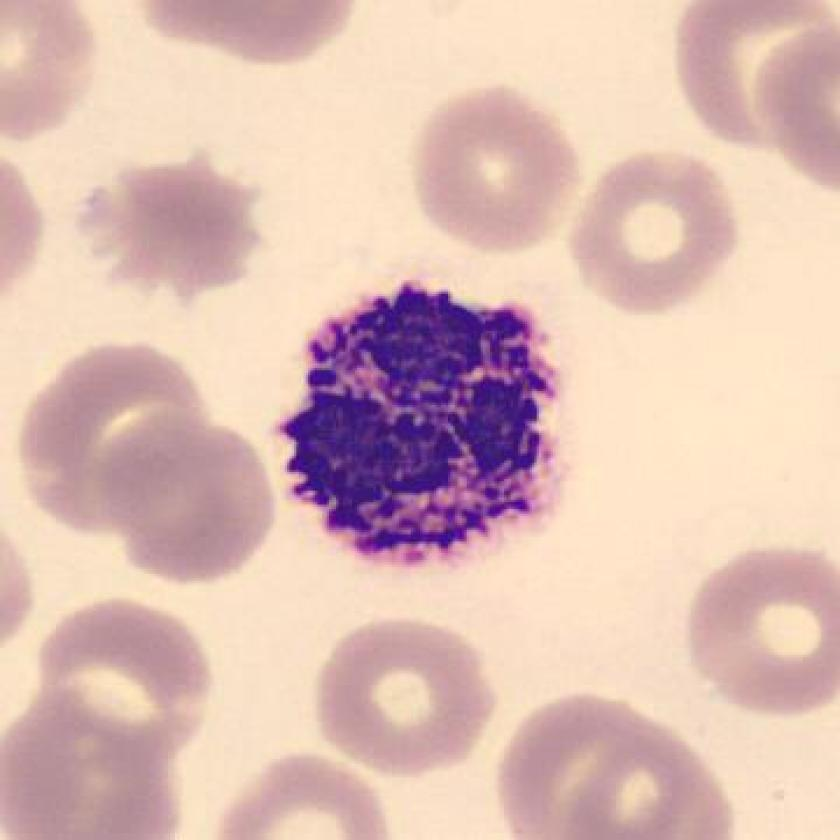basophil: (255, 272, 594, 577)
